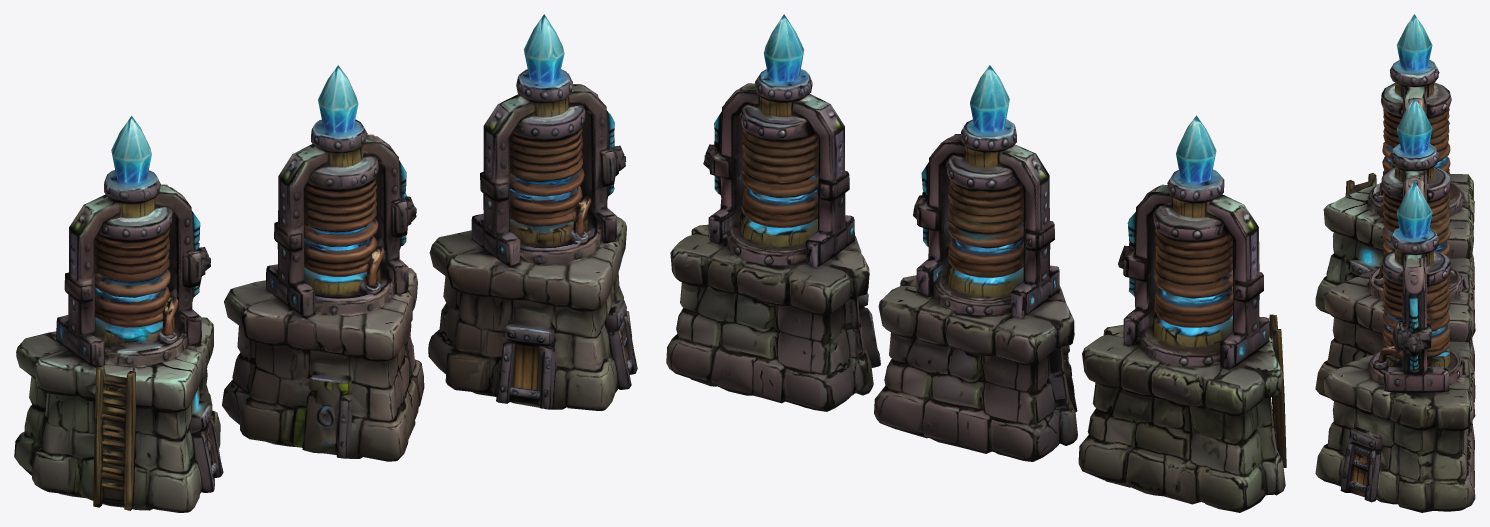
File: LightningTower.fbx
3 renders of one model, left to right at view 1: azimuth 30°, elevation 25°; view 2: azimuth 150°, elevation 25°; view 3: azimuth 270°, elevation 25°, orthographic. The views are drawn at different scales.
Visible parts, largest first — view 1: mesh_node; view 2: mesh_node; view 3: mesh_node.
Boxes of the visible parts, x1,y1,x2,y2 form: mesh_node: [14, 14, 637, 512]; mesh_node: [666, 14, 1286, 512]; mesh_node: [1315, 14, 1475, 512].
Size of the model in its own units: 1.98 by 1.15 by 0.5513.
